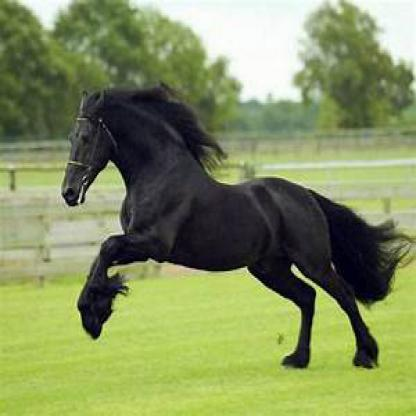horse: (61, 82, 395, 370)
